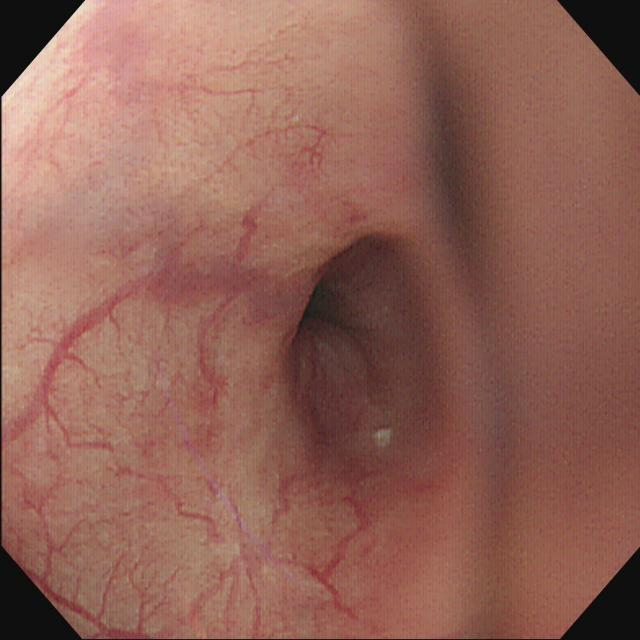A: (152, 216, 298, 327)
J: (375, 427, 392, 450)
